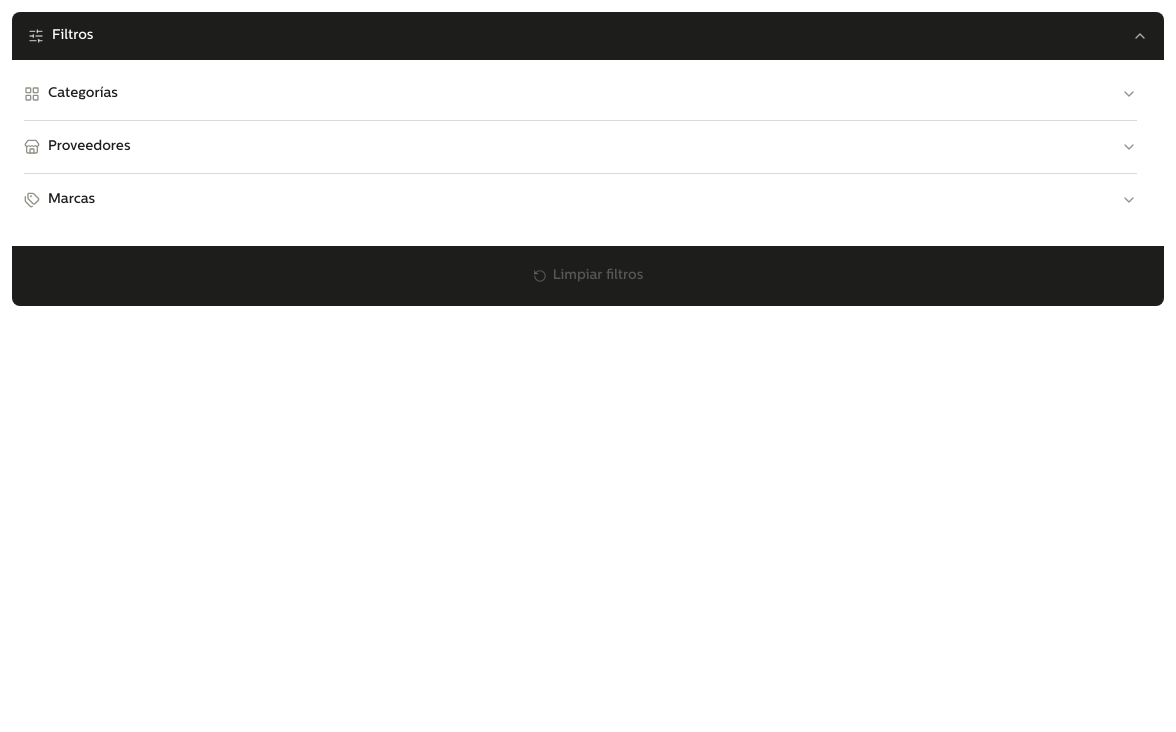
Test: categorías y subcategorías › deseleccionar la categoría oculta las subcategorías
This screenshot has width=1176, height=732.
Click the button "Categorías": (83, 94) [24,76,1137,112]
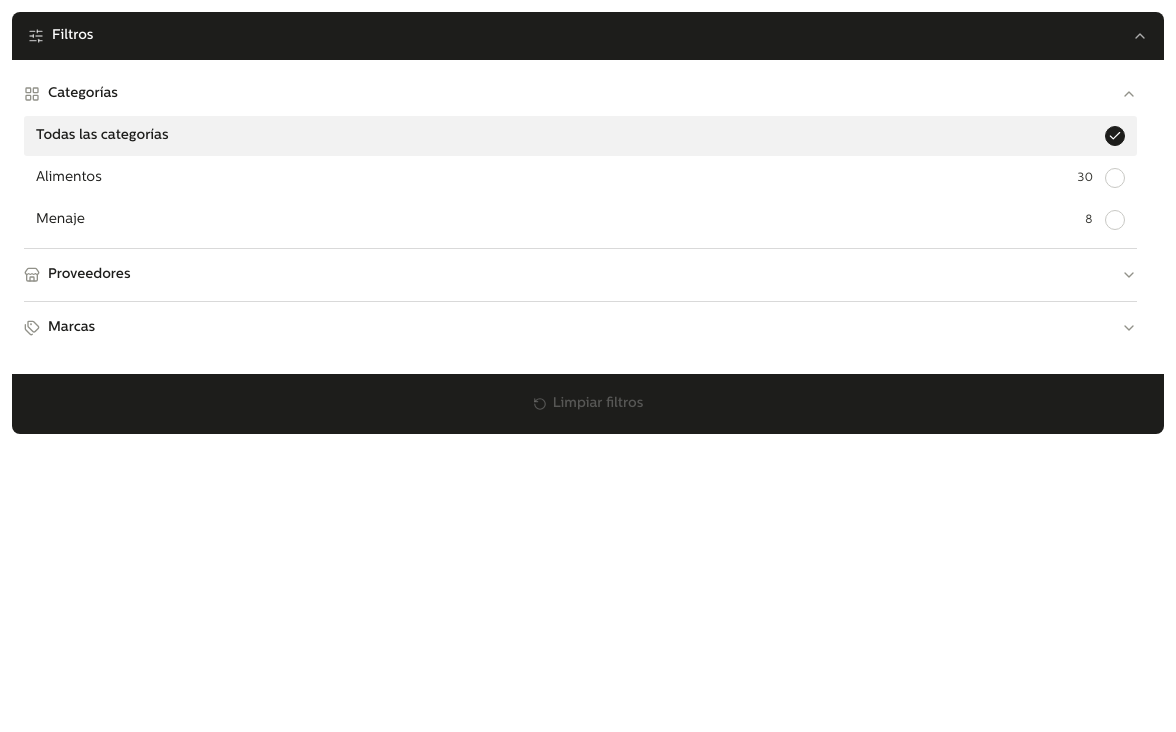
Click the button "Alimentos 30": (69, 178) [24,158,1137,198]
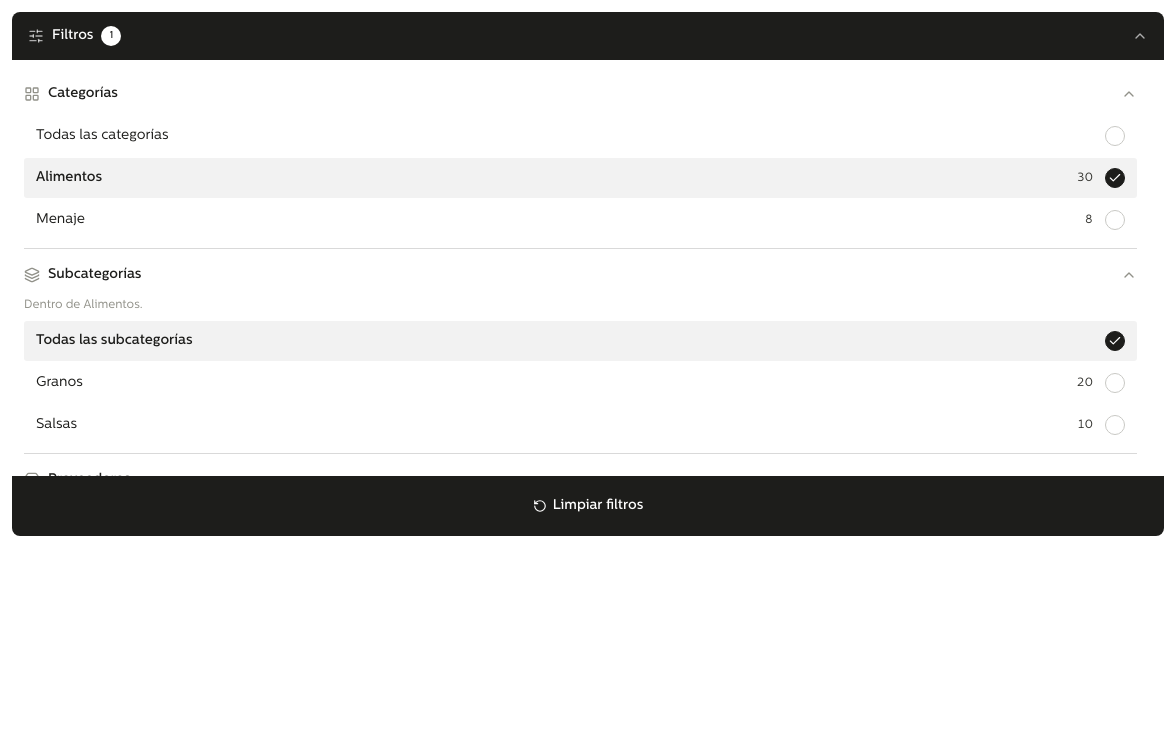
Click the button "Alimentos 30": (69, 178) [24,158,1137,198]
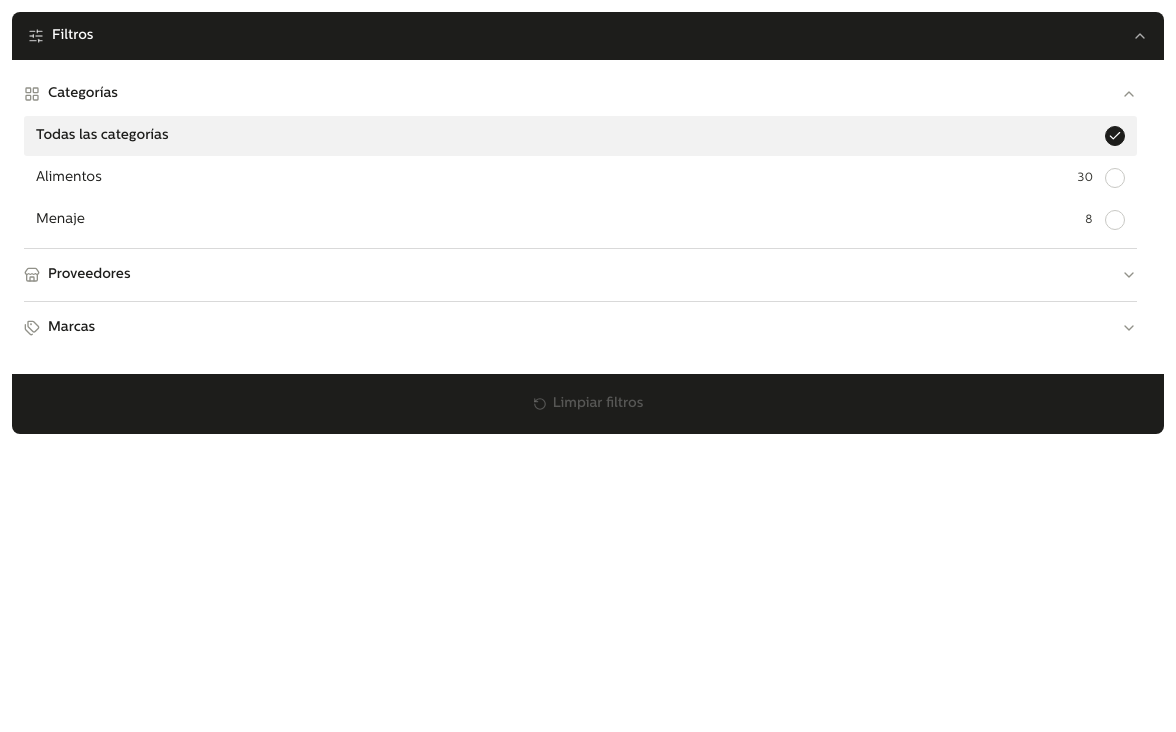
Expected: the button "Subcategorías" is gone
